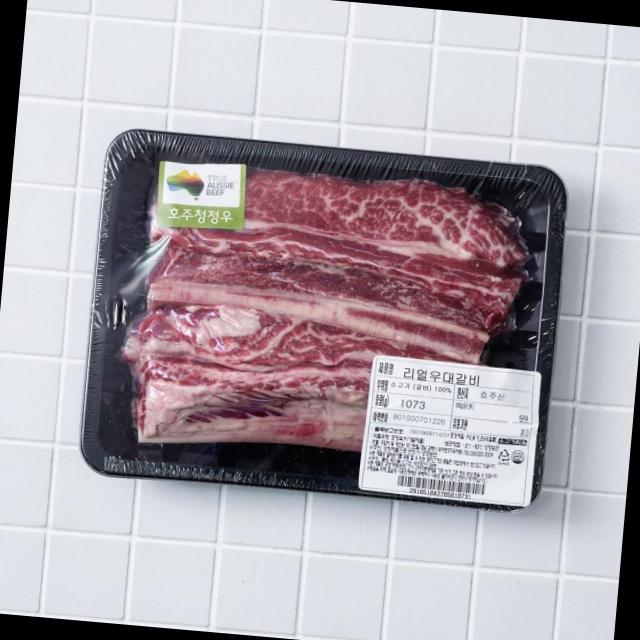beef: (85, 140, 557, 503)
